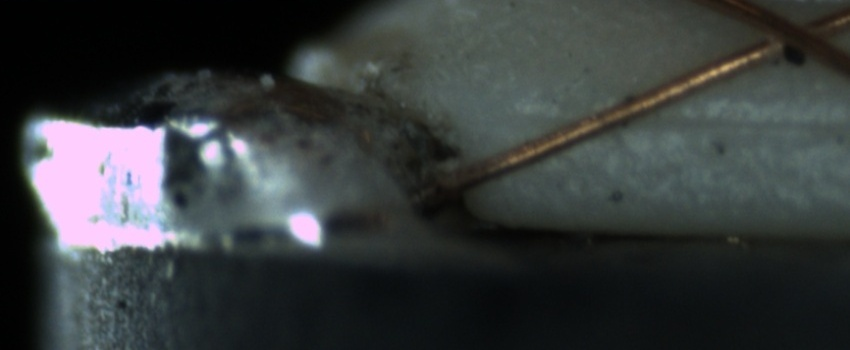CL: (738, 0, 842, 69)
DL: (526, 87, 848, 154)
